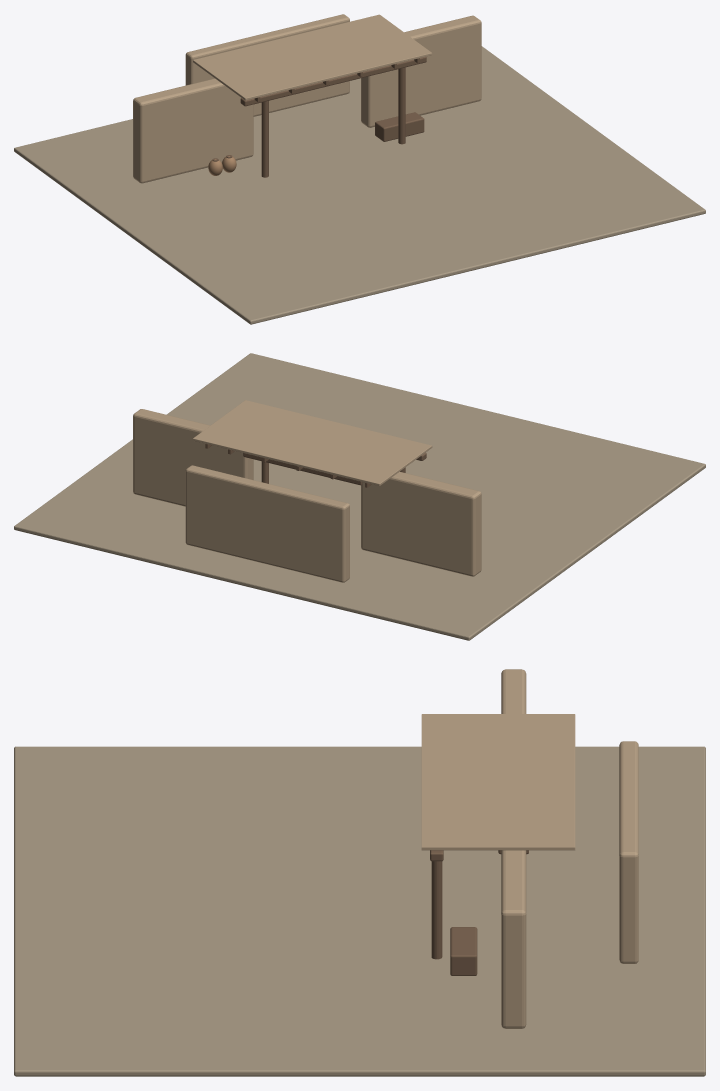
File: meeting.glb
3 renders of one model, top to bottom at view 1: azimuth 30°, elevation 25°; view 2: azimuth 150°, elevation 25°; view 3: azimuth 270°, elevation 25°, orthographic. The views are drawn at different scales.
Parts seen in each view (by area): view 1: Courtyard floor, Light roof covering, Reception wall left, Reception wall right, Shadowed inner wall, Timber crossbeam, Plain reception bench, Portico timber, Portico timber.001; view 2: Courtyard floor, Shadowed inner wall, Light roof covering, Reception wall left, Reception wall right, Entry lintel; view 3: Courtyard floor, Light roof covering, Reception wall right, Shadowed inner wall, Plain reception bench, Portico timber.001, Reception wall left.
Boxes of the visible parts, bbox=[...] form: Courtyard floor: bbox=[14, 46, 705, 324]; Light roof covering: bbox=[193, 14, 432, 100]; Reception wall left: bbox=[133, 78, 253, 183]; Reception wall right: bbox=[361, 15, 481, 127]; Shadowed inner wall: bbox=[185, 14, 349, 116]; Timber crossbeam: bbox=[240, 56, 426, 106]; Plain reception bench: bbox=[375, 112, 424, 141]; Portico timber: bbox=[261, 101, 268, 177]; Portico timber.001: bbox=[398, 67, 405, 144]; Courtyard floor: bbox=[14, 353, 705, 640]; Shadowed inner wall: bbox=[185, 465, 349, 582]; Light roof covering: bbox=[193, 400, 432, 486]; Reception wall left: bbox=[361, 471, 481, 576]; Reception wall right: bbox=[133, 409, 253, 506]; Entry lintel: bbox=[243, 453, 362, 485]; Courtyard floor: bbox=[14, 746, 705, 1076]; Light roof covering: bbox=[421, 714, 575, 850]; Reception wall right: bbox=[501, 850, 526, 1028]; Shadowed inner wall: bbox=[619, 741, 638, 963]; Plain reception bench: bbox=[450, 927, 477, 975]; Portico timber.001: bbox=[431, 861, 442, 959]; Reception wall left: bbox=[501, 669, 526, 713].
Size of the model in its own units: 20 by 3.85 by 18.
